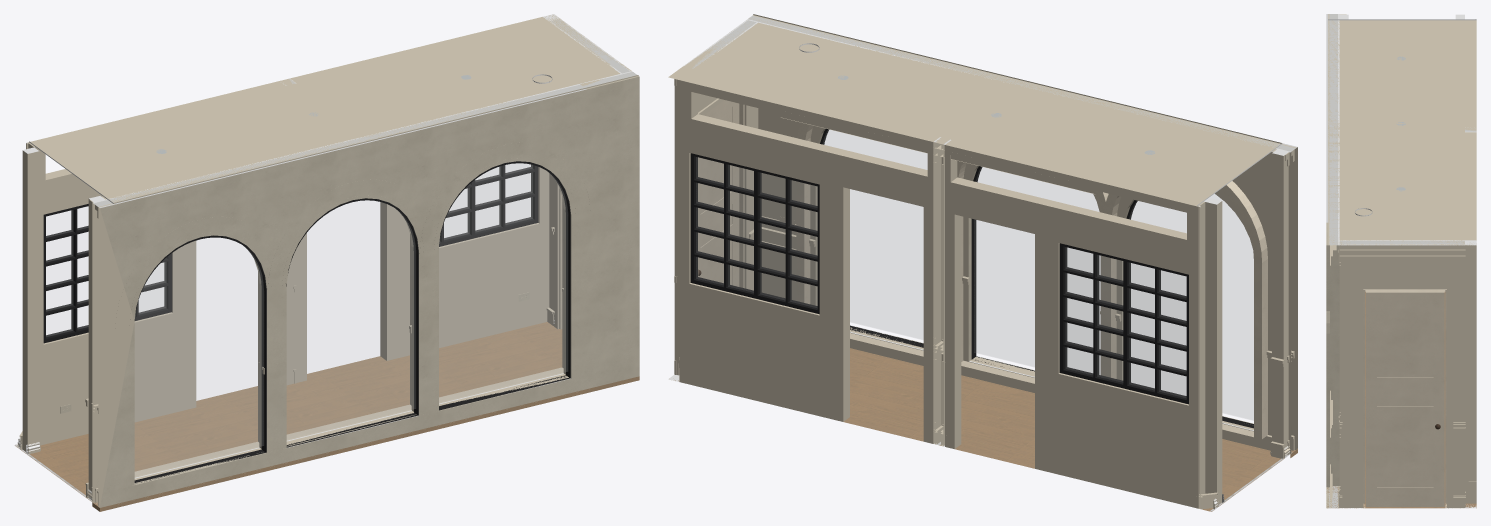
File: office-hall-20fcc7c6b8e8.glb
3 renders of one model, left to right at view 1: azimuth 30°, elevation 25°; view 2: azimuth 150°, elevation 25°; view 3: azimuth 270°, elevation 25°, orthographic. The views are drawn at different scales.
Visible parts, largest first — view 1: office-hall-c9e78b9ec1bb39cd, office-hall-dbd60ee5c3733ed6, office-hall-5cbcc744e6f960f3, office-hall-c02a36d0521470a9, office-hall-38561c12898e4d43, office-hall-c374268555806af8, office-hall-7dc307bfa7ee071d, office-hall-a822d30aa9e2c55a, office-hall-93447d0fea18c81b, office-hall-30c11a1e1f11b96f, office-hall-7b82ff44d03bcf83, office-hall-bc466264917d70e2 (+12 smaller); view 2: office-hall-dbd60ee5c3733ed6, office-hall-a822d30aa9e2c55a, office-hall-7dc307bfa7ee071d, office-hall-c374268555806af8, office-hall-c9e78b9ec1bb39cd, office-hall-c02a36d0521470a9, office-hall-38561c12898e4d43, office-hall-5cbcc744e6f960f3, office-hall-bc466264917d70e2, office-hall-7b82ff44d03bcf83, office-hall-30c11a1e1f11b96f, office-hall-1109284a531c9f8c (+29 smaller); view 3: office-hall-dbd60ee5c3733ed6, office-hall-cf6d22c5317ced0b, office-hall-68d06b361ac47823, office-hall-c9e78b9ec1bb39cd, office-hall-7dc307bfa7ee071d, office-hall-8cbce1d8f2f8a576, office-hall-a822d30aa9e2c55a, office-hall-c374268555806af8, office-hall-93697f08ebd08859, office-hall-93447d0fea18c81b, office-hall-b08c724f11ced4fa.
Part boxes in pixels (left/top/right/bottom): office-hall-c9e78b9ec1bb39cd: left=92, top=84, right=586, bottom=507; office-hall-dbd60ee5c3733ed6: left=29, top=14, right=638, bottom=203; office-hall-5cbcc744e6f960f3: left=439, top=163, right=567, bottom=402; office-hall-c02a36d0521470a9: left=287, top=200, right=415, bottom=439; office-hall-38561c12898e4d43: left=135, top=238, right=263, bottom=476; office-hall-c374268555806af8: left=15, top=322, right=639, bottom=511; office-hall-7dc307bfa7ee071d: left=291, top=17, right=549, bottom=382; office-hall-a822d30aa9e2c55a: left=27, top=82, right=285, bottom=445; office-hall-93447d0fea18c81b: left=580, top=71, right=639, bottom=388; office-hall-30c11a1e1f11b96f: left=22, top=147, right=39, bottom=451; office-hall-7b82ff44d03bcf83: left=46, top=207, right=165, bottom=336; office-hall-bc466264917d70e2: left=444, top=164, right=532, bottom=239; office-hall-dbd60ee5c3733ed6: left=668, top=14, right=1282, bottom=205; office-hall-a822d30aa9e2c55a: left=945, top=140, right=1205, bottom=508; office-hall-7dc307bfa7ee071d: left=679, top=80, right=939, bottom=443; office-hall-c374268555806af8: left=675, top=348, right=1297, bottom=511; office-hall-c9e78b9ec1bb39cd: left=799, top=28, right=1297, bottom=453; office-hall-c02a36d0521470a9: left=974, top=167, right=1098, bottom=372; office-hall-38561c12898e4d43: left=1129, top=194, right=1253, bottom=420; office-hall-5cbcc744e6f960f3: left=823, top=129, right=927, bottom=339; office-hall-bc466264917d70e2: left=696, top=157, right=817, bottom=307; office-hall-7b82ff44d03bcf83: left=1066, top=247, right=1186, bottom=397; office-hall-30c11a1e1f11b96f: left=1205, top=198, right=1222, bottom=504; office-hall-1109284a531c9f8c: left=1102, top=181, right=1267, bottom=438; office-hall-dbd60ee5c3733ed6: left=1328, top=19, right=1476, bottom=245; office-hall-cf6d22c5317ced0b: left=1366, top=291, right=1444, bottom=506; office-hall-68d06b361ac47823: left=1339, top=240, right=1464, bottom=508; office-hall-c9e78b9ec1bb39cd: left=1326, top=14, right=1339, bottom=485; office-hall-7dc307bfa7ee071d: left=1465, top=132, right=1476, bottom=491; office-hall-8cbce1d8f2f8a576: left=1363, top=289, right=1446, bottom=508; office-hall-a822d30aa9e2c55a: left=1465, top=20, right=1476, bottom=127; office-hall-c374268555806af8: left=1326, top=291, right=1476, bottom=508; office-hall-93697f08ebd08859: left=1326, top=311, right=1329, bottom=487; office-hall-93447d0fea18c81b: left=1326, top=222, right=1339, bottom=508; office-hall-b08c724f11ced4fa: left=1340, top=245, right=1465, bottom=256.
Bounding box in the file's own units: 5.65 × 3.05 × 1.55.
Materials: 20 (6 with a texture image).
